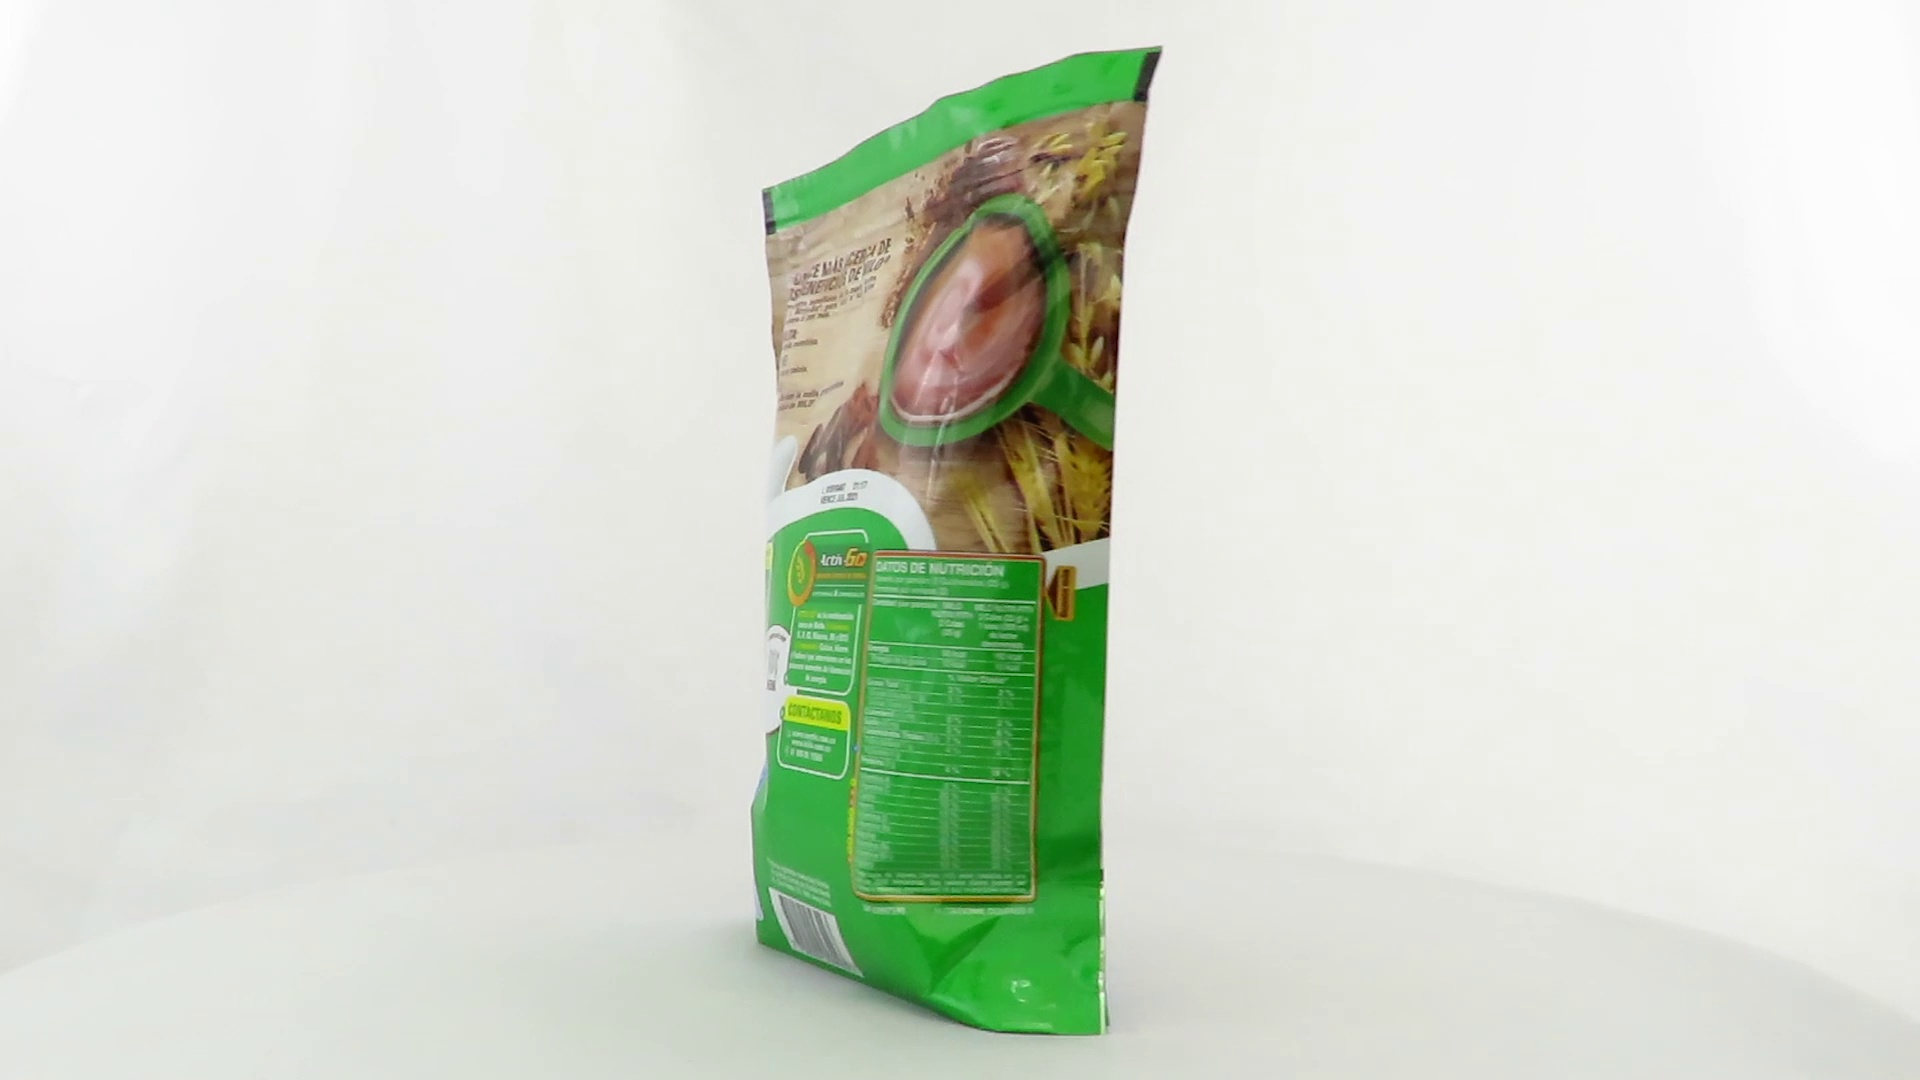COL0170205DYP50000: (745, 40, 1168, 1042)
